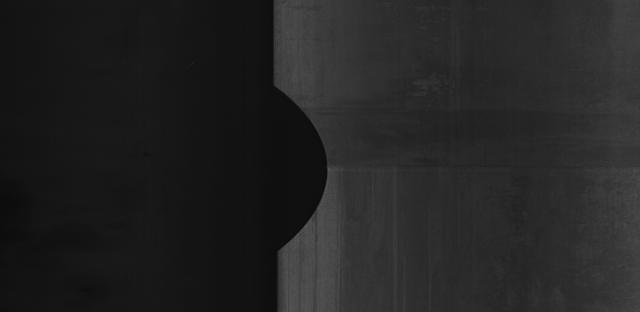crescent_gap: (245, 80, 342, 258)
welding_line: (314, 150, 640, 178)
